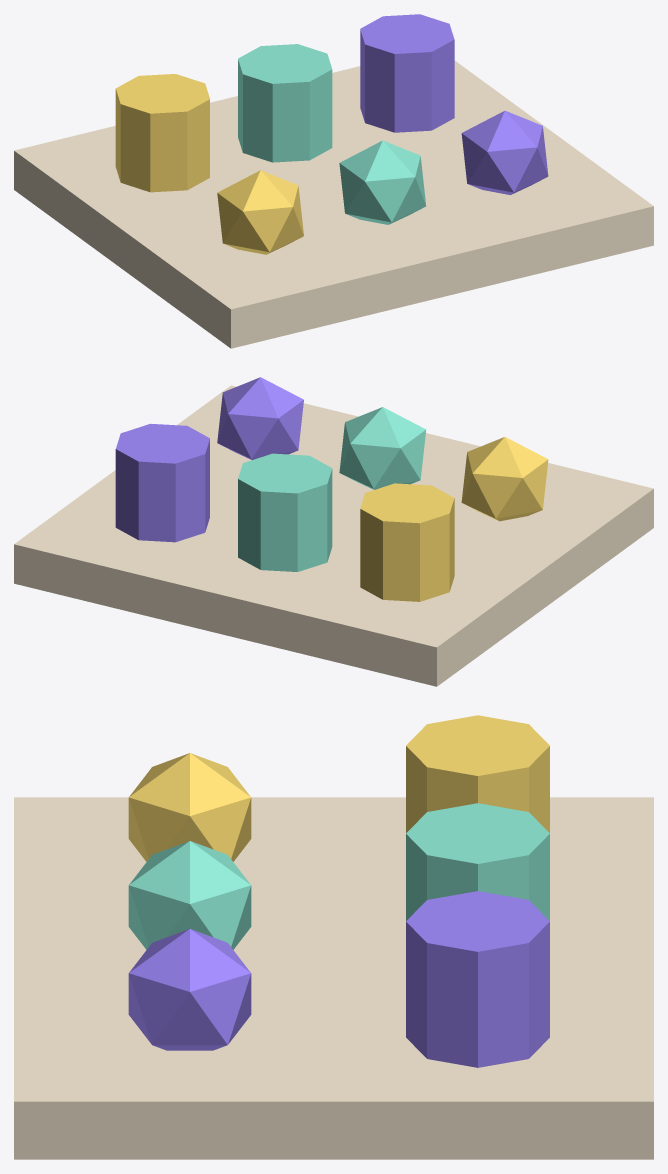
3 renders of one model, top to bottom at view 1: azimuth 30°, elevation 25°; view 2: azimuth 150°, elevation 25°; view 3: azimuth 270°, elevation 25°, orthographic. The views are drawn at different scales.
Parts seen in each view (by area): view 1: Activity board, Sorting cup.002, Sorting cup.001, Sorting cup, Sorting piece.001, Sorting piece, Sorting piece.002; view 2: Activity board, Sorting cup.001, Sorting cup.002, Sorting cup, Sorting piece, Sorting piece.002, Sorting piece.001; view 3: Activity board, Sorting cup.002, Sorting cup.001, Sorting cup, Sorting piece.002, Sorting piece.001, Sorting piece.
Part boxes in pixels (x1,y1,x2,y2): Activity board: (14,60,653,348); Sorting cup.002: (360,14,454,132); Sorting cup.001: (238,44,332,162); Sorting cup: (115,74,209,192); Sorting piece.001: (339,140,426,224); Sorting piece: (217,170,303,254); Sorting piece.002: (461,110,548,194); Activity board: (14,385,653,686); Sorting cup.001: (238,453,332,571); Sorting cup.002: (115,423,209,542); Sorting cup: (360,483,454,601); Sorting piece: (461,437,548,521); Sorting piece.002: (217,377,303,459); Sorting piece.001: (339,407,426,489); Activity board: (14,797,653,1159); Sorting cup.002: (406,891,549,1067); Sorting cup.001: (406,803,549,920); Sorting cup: (406,715,549,832); Sorting piece.002: (128,929,251,1050); Sorting piece.001: (128,841,251,949); Sorting piece: (128,753,251,861).
Size of the model in its own units: 0.45 by 0.12 by 0.4.
1 material, 1 textured.
